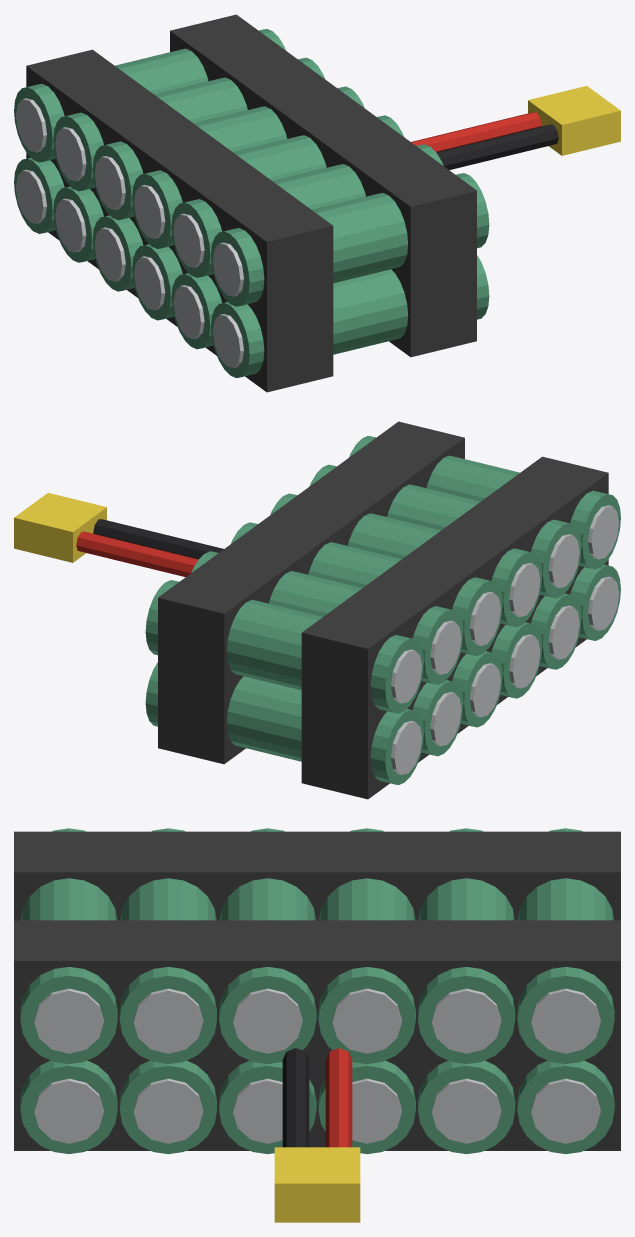
Rendered from Bat_LiIon18650_2P.glb.
3 renders of one model, top to bottom at view 1: azimuth 30°, elevation 25°; view 2: azimuth 150°, elevation 25°; view 3: azimuth 270°, elevation 25°, orthographic. The views are drawn at different scales.
Parts seen in each view (by area): view 1: Tape, Tape.001, Cell10, Cell00, Cell11, Cell12, Cell13, Cell14, Cell15, XT60.002, LeadB.002, LeadR.002 (+17 smaller); view 2: Tape, Tape.001, Cell15, Cell05, Cell14, Cell11, Cell12, Cell13, Cell10, XT60.002, LeadR.002, LeadB.002 (+17 smaller); view 3: Tape.001, Tape, Cell10, Cell15, Cell11, Cell14, Cell12, Cell13, XT60.002, Cell01, Cell04, Cell00 (+17 smaller).
Boxes of the visible parts, x1=… form: Tape: x1=26, y1=49, x2=333, y2=392; Tape.001: x1=170, y1=14, x2=476, y2=357; Cell10: x1=211, y1=173, x2=489, y2=306; Cell00: x1=211, y1=255, x2=489, y2=377; Cell11: x1=171, y1=144, x2=443, y2=277; Cell12: x1=132, y1=115, x2=403, y2=248; Cell13: x1=92, y1=86, x2=364, y2=220; Cell14: x1=53, y1=57, x2=324, y2=191; Cell15: x1=14, y1=29, x2=285, y2=162; XT60.002: x1=528, y1=86, x2=620, y2=155; LeadB.002: x1=436, y1=124, x2=558, y2=170; LeadR.002: x1=411, y1=112, x2=541, y2=152; Tape: x1=301, y1=456, x2=608, y2=799; Tape.001: x1=158, y1=421, x2=464, y2=764; Cell15: x1=145, y1=580, x2=423, y2=713; Cell05: x1=145, y1=662, x2=423, y2=784; Cell14: x1=191, y1=551, x2=463, y2=684; Cell11: x1=310, y1=464, x2=581, y2=598; Cell12: x1=270, y1=493, x2=542, y2=627; Cell13: x1=231, y1=522, x2=502, y2=655; Cell10: x1=349, y1=436, x2=620, y2=569; XT60.002: x1=14, y1=493, x2=106, y2=562; LeadR.002: x1=76, y1=531, x2=198, y2=577; LeadB.002: x1=93, y1=519, x2=223, y2=559; Tape.001: x1=14, y1=920, x2=620, y2=1150; Tape: x1=14, y1=831, x2=620, y2=920; Cell10: x1=20, y1=828, x2=117, y2=1063; Cell15: x1=517, y1=828, x2=614, y2=1063; Cell11: x1=119, y1=828, x2=216, y2=1063; Cell14: x1=418, y1=828, x2=515, y2=1063; Cell12: x1=219, y1=828, x2=316, y2=1063; Cell13: x1=318, y1=828, x2=415, y2=1063; XT60.002: x1=274, y1=1147, x2=360, y2=1222; Cell01: x1=119, y1=1060, x2=216, y2=1154; Cell04: x1=418, y1=1060, x2=515, y2=1154; Cell00: x1=20, y1=1060, x2=117, y2=1153.
Size of the model in its own units: 0.129 by 0.039 by 0.113.
